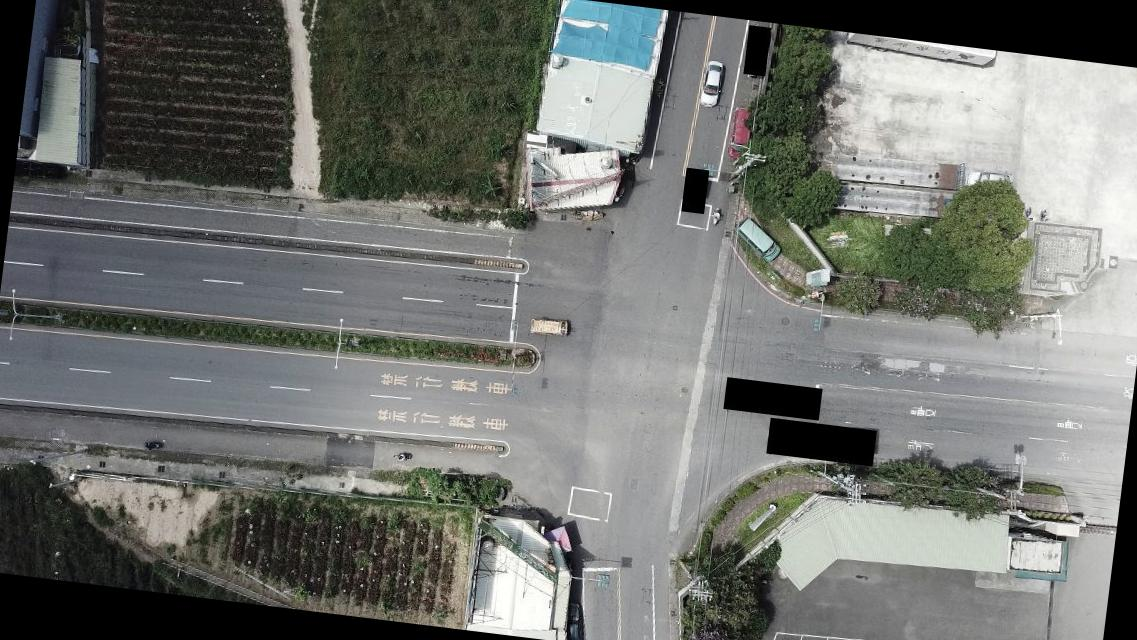vehicle: (732, 218, 784, 262), (724, 106, 755, 160), (962, 168, 1016, 198), (562, 598, 592, 639), (700, 59, 724, 108), (528, 316, 572, 340)
